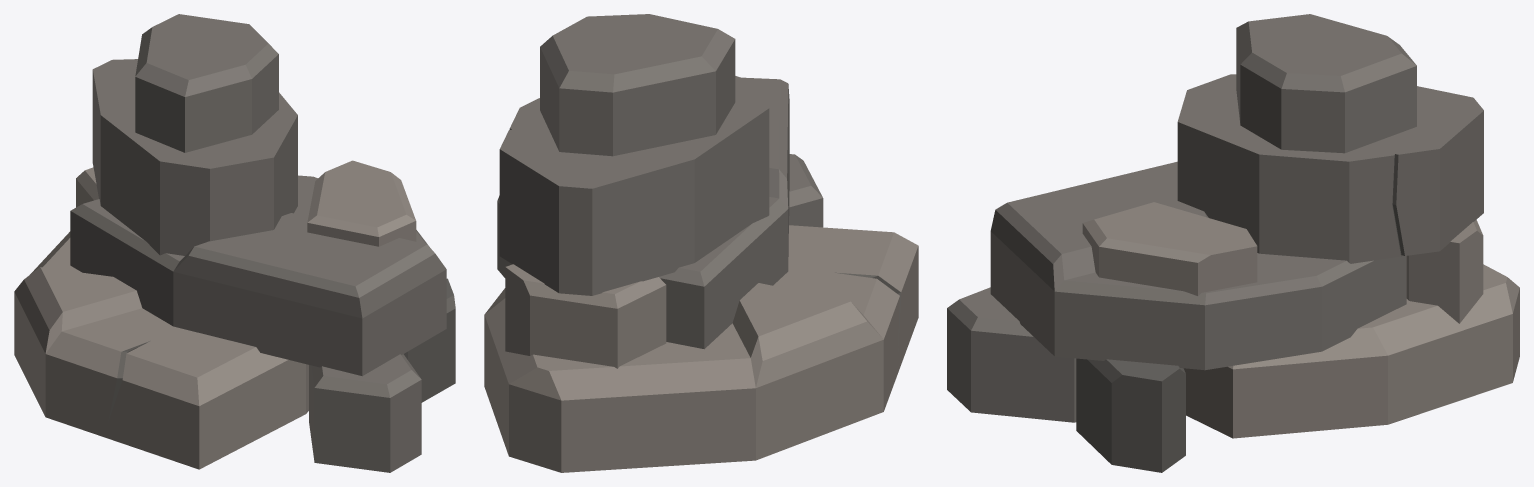
File: flatrock2.fbx
3 views of the same model, side by side, from view 1: azimuth 30°, elevation 25°; view 2: azimuth 150°, elevation 25°; view 3: azimuth 270°, elevation 25° (orthographic). The views are drawn at different scales.
Parts seen in each view (by area): view 1: FlatRock2; view 2: FlatRock2; view 3: FlatRock2.
Boxes of the visible parts, box(x1,y1,x2,y2) form: FlatRock2: box(14, 14, 455, 472); FlatRock2: box(484, 14, 918, 472); FlatRock2: box(947, 14, 1519, 472).
Bounding box in the file's own units: 1.92 × 1.55 × 2.4.
